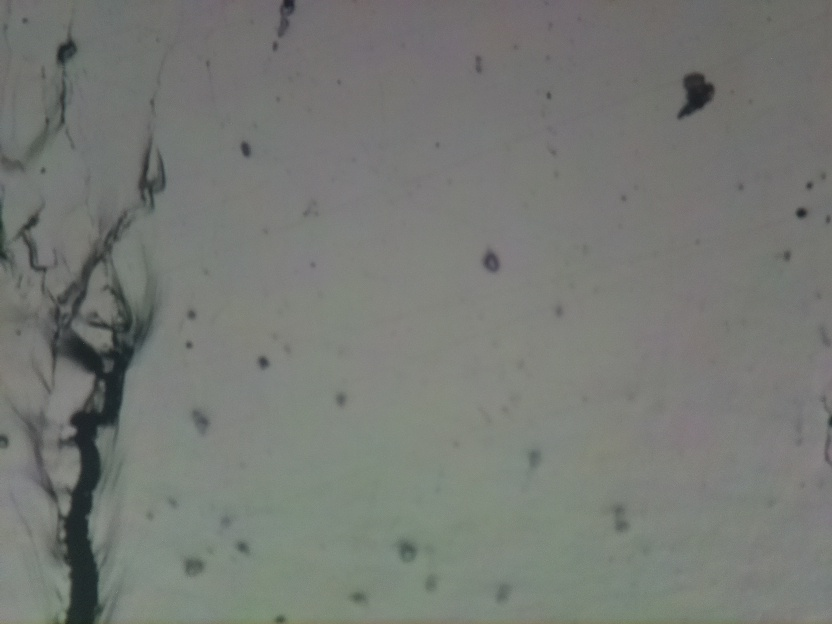crack: (53, 236, 164, 624)
